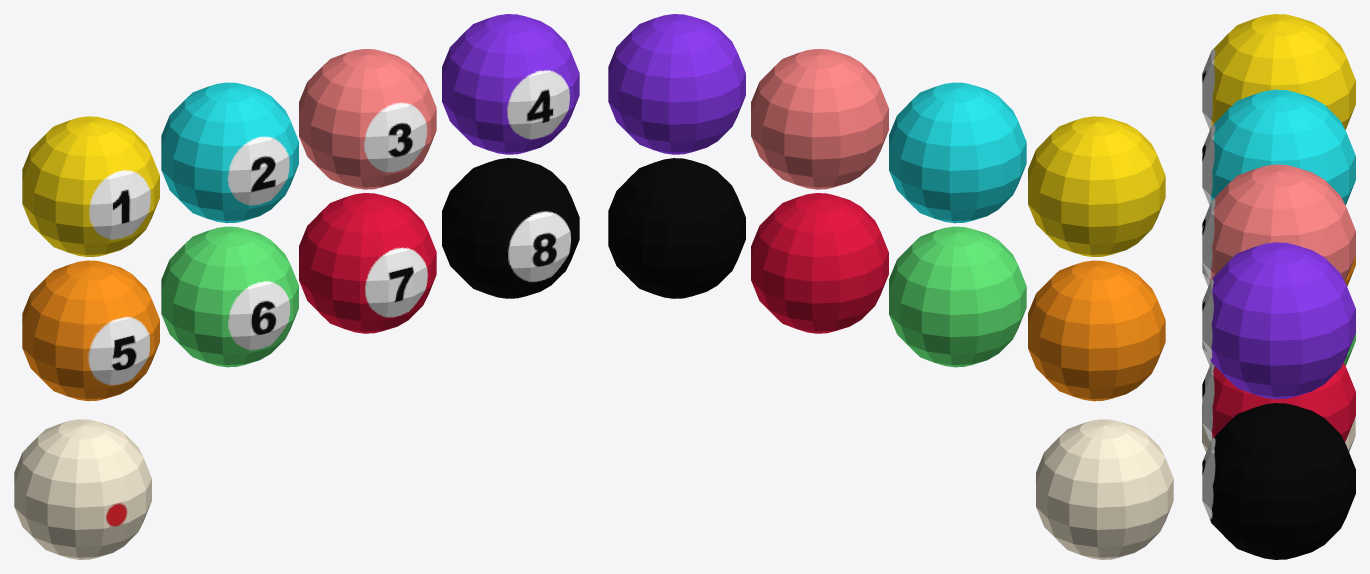
Rendered from pool.fbx.
3 views of the same model, side by side, from view 1: azimuth 30°, elevation 25°; view 2: azimuth 150°, elevation 25°; view 3: azimuth 270°, elevation 25° (orthographic). The views are drawn at different scales.
Parts seen in each view (by area): view 1: 6, 2, 5, 8, 4, 1, 7, 3, white; view 2: white, 1, 7, 3, 4, 8, 2, 6, 5; view 3: 8, 4, 3, 1, 2, 7, white.
Part boxes in pixels (x1,y1,x2,y2): 6: (161,226,298,367); 2: (161,82,298,223); 5: (22,260,159,401); 8: (442,158,579,298); 4: (442,14,579,154); 1: (22,116,159,256); 7: (299,193,436,333); 3: (299,49,436,189); white: (14,419,151,559); white: (1036,419,1173,559); 1: (1028,116,1165,256); 7: (751,193,888,333); 3: (751,49,888,189); 4: (608,14,745,154); 8: (608,158,745,298); 2: (889,82,1026,223); 6: (889,226,1026,367); 5: (1028,260,1165,401); 8: (1202,403,1355,559); 4: (1202,242,1355,399); 3: (1202,164,1355,281); 1: (1202,14,1355,129); 2: (1202,89,1355,205); 7: (1202,362,1355,441); white: (1202,404,1355,452).
Bounding box in the file's own units: 894 × 669 × 195.
Materials: 2 (2 with a texture image).
